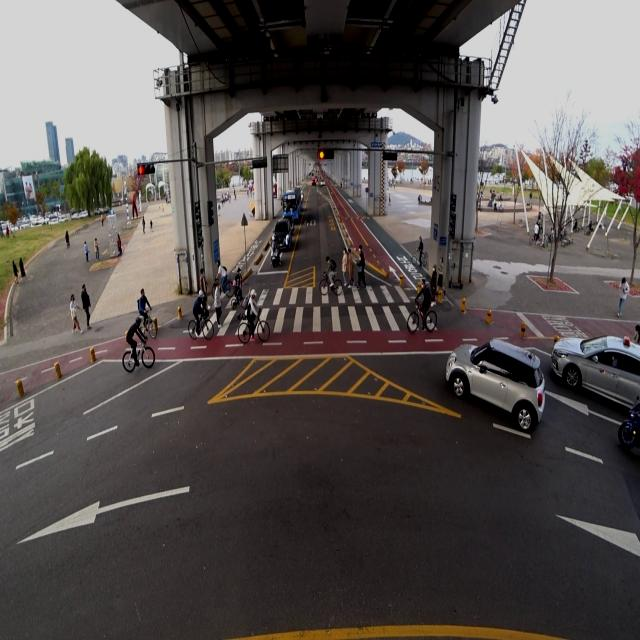Bus: (283, 182, 302, 229)
Car: (442, 330, 548, 443), (544, 314, 640, 416), (274, 222, 291, 250), (284, 217, 296, 234)
Motorcycle: (617, 390, 640, 457), (268, 233, 280, 268)
